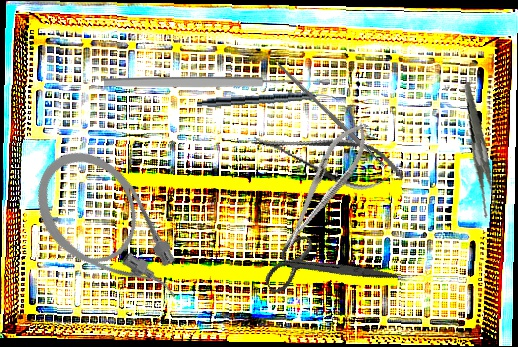Cannula: (14, 131, 202, 335)
Dressing Forceps: (446, 81, 516, 220)
Handpiece: (196, 89, 337, 111)
Iris Scissors: (253, 203, 400, 335)
Micro Scissor: (246, 113, 411, 202)
Needle Holder: (271, 113, 379, 257)
Scalpel Handle: (275, 61, 386, 169)
Surgical Spoon: (104, 76, 330, 89)
